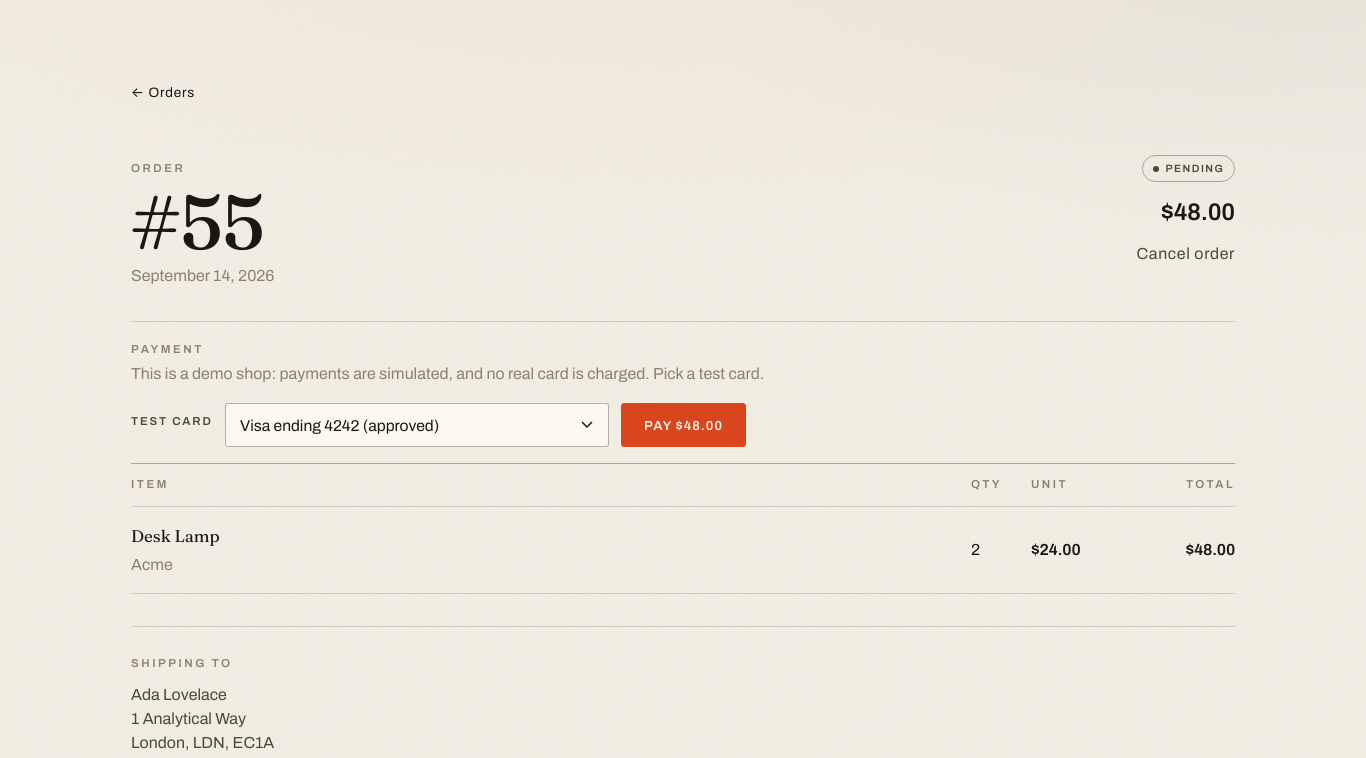
Scenario: OrderDetailPage › shows a refused cancel
What coordinates should you click on to do the following:
click the button "Cancel order"
I would click on:
 (1186, 254)
Its box is [1136,242,1235,267].
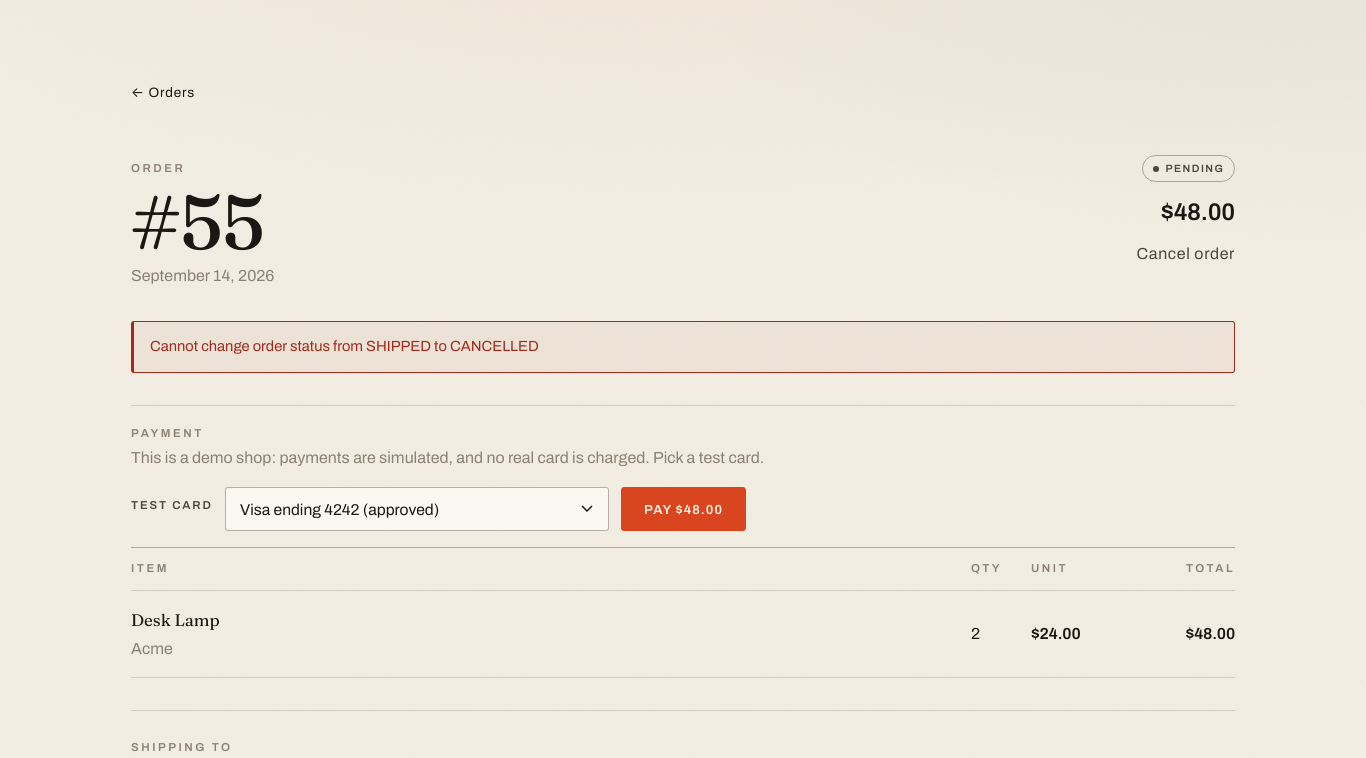
Expected: the message shows "Cannot change order status", [150,338,539,354]
